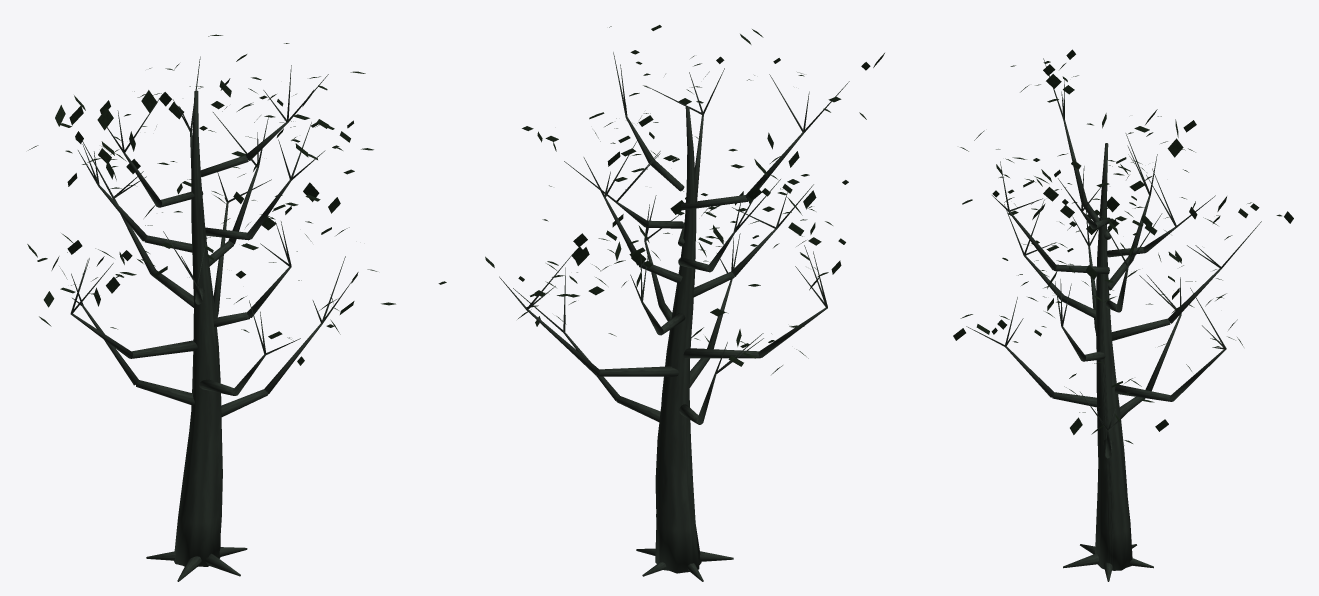
Rendered from tree_oak.glb.
3 views of the same model, side by side, from view 1: azimuth 30°, elevation 25°; view 2: azimuth 150°, elevation 25°; view 3: azimuth 270°, elevation 25° (orthographic). The views are drawn at different scales.
Parts seen in each view (by area): view 1: Twisted_bark_trunk, Leaf_canopy, Main_branch.004, Main_branch.001; view 2: Twisted_bark_trunk, Leaf_canopy, Main_branch.003, Main_branch.004; view 3: Twisted_bark_trunk, Leaf_canopy, Main_branch.006, Main_branch.003.
Part boxes in pixels (box(x1,y1,x2,y2)): Twisted_bark_trunk: box(174, 90, 222, 566); Leaf_canopy: box(27, 34, 395, 365); Main_branch.004: box(130, 340, 197, 358); Main_branch.001: box(136, 380, 194, 405); Twisted_bark_trunk: box(655, 106, 701, 573); Leaf_canopy: box(438, 25, 884, 374); Main_branch.003: box(598, 366, 678, 376); Main_branch.004: box(683, 348, 760, 358); Twisted_bark_trunk: box(1095, 143, 1132, 570); Leaf_canopy: box(953, 49, 1293, 445); Main_branch.006: box(1111, 318, 1170, 340); Main_branch.003: box(1115, 384, 1172, 401).
Size of the model in its own units: 6.36 by 8.81 by 6.3.
2 materials, 2 textured.
